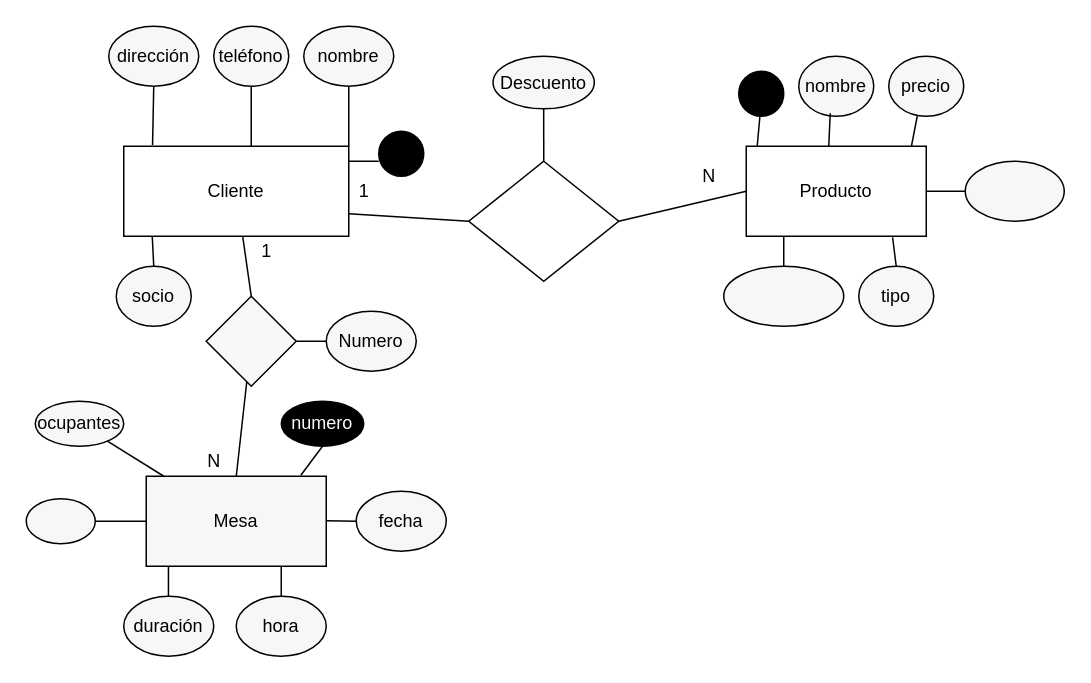
This 1091x683 diagram has some shape labels left out. The centre of each missing label's shape, as x and y in pixels:
CI: (400,153)
Compra: (543,220)
descripción: (783,295)
id: (760,93)
imagen: (1014,190)
libre: (60,520)
Reserva: (250,340)
